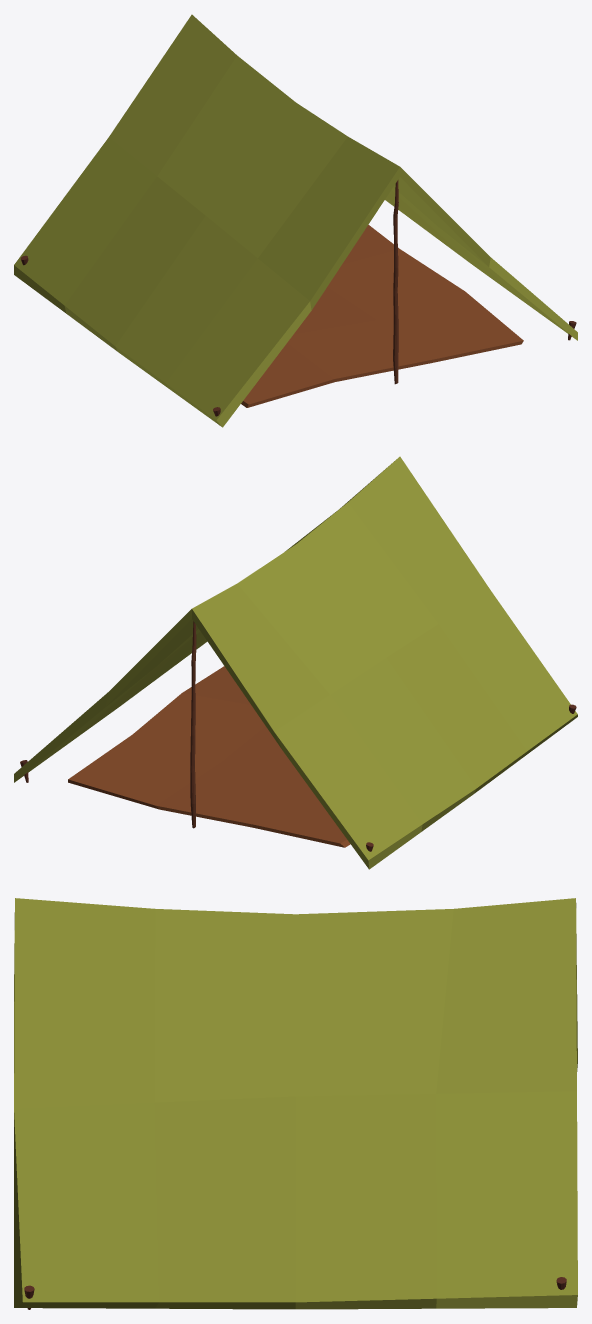
File: Tent.fbx
The picture shows the model from 3 angles, top to bottom: view 1: azimuth 30°, elevation 25°; view 2: azimuth 150°, elevation 25°; view 3: azimuth 270°, elevation 25°; orthographic projection. The views are drawn at different scales.
Parts seen in each view (by area): view 1: Tent; view 2: Tent; view 3: Tent.
Part boxes in pixels (x1,y1,x2,y2): Tent: (14,14,577,427); Tent: (14,456,577,869); Tent: (14,898,577,1309).
Bounding box in the file's own units: 3.76 × 2.2 × 3.76.
